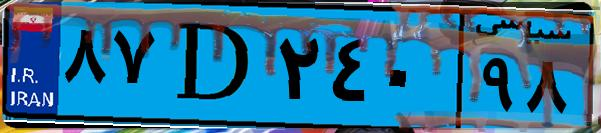0: (385, 28, 445, 110)
2: (270, 28, 330, 110)
4: (330, 28, 385, 110)
7: (110, 28, 158, 98)
8: (57, 26, 110, 100), (525, 38, 570, 115)
9: (475, 38, 525, 113)
D: (158, 12, 270, 120)
